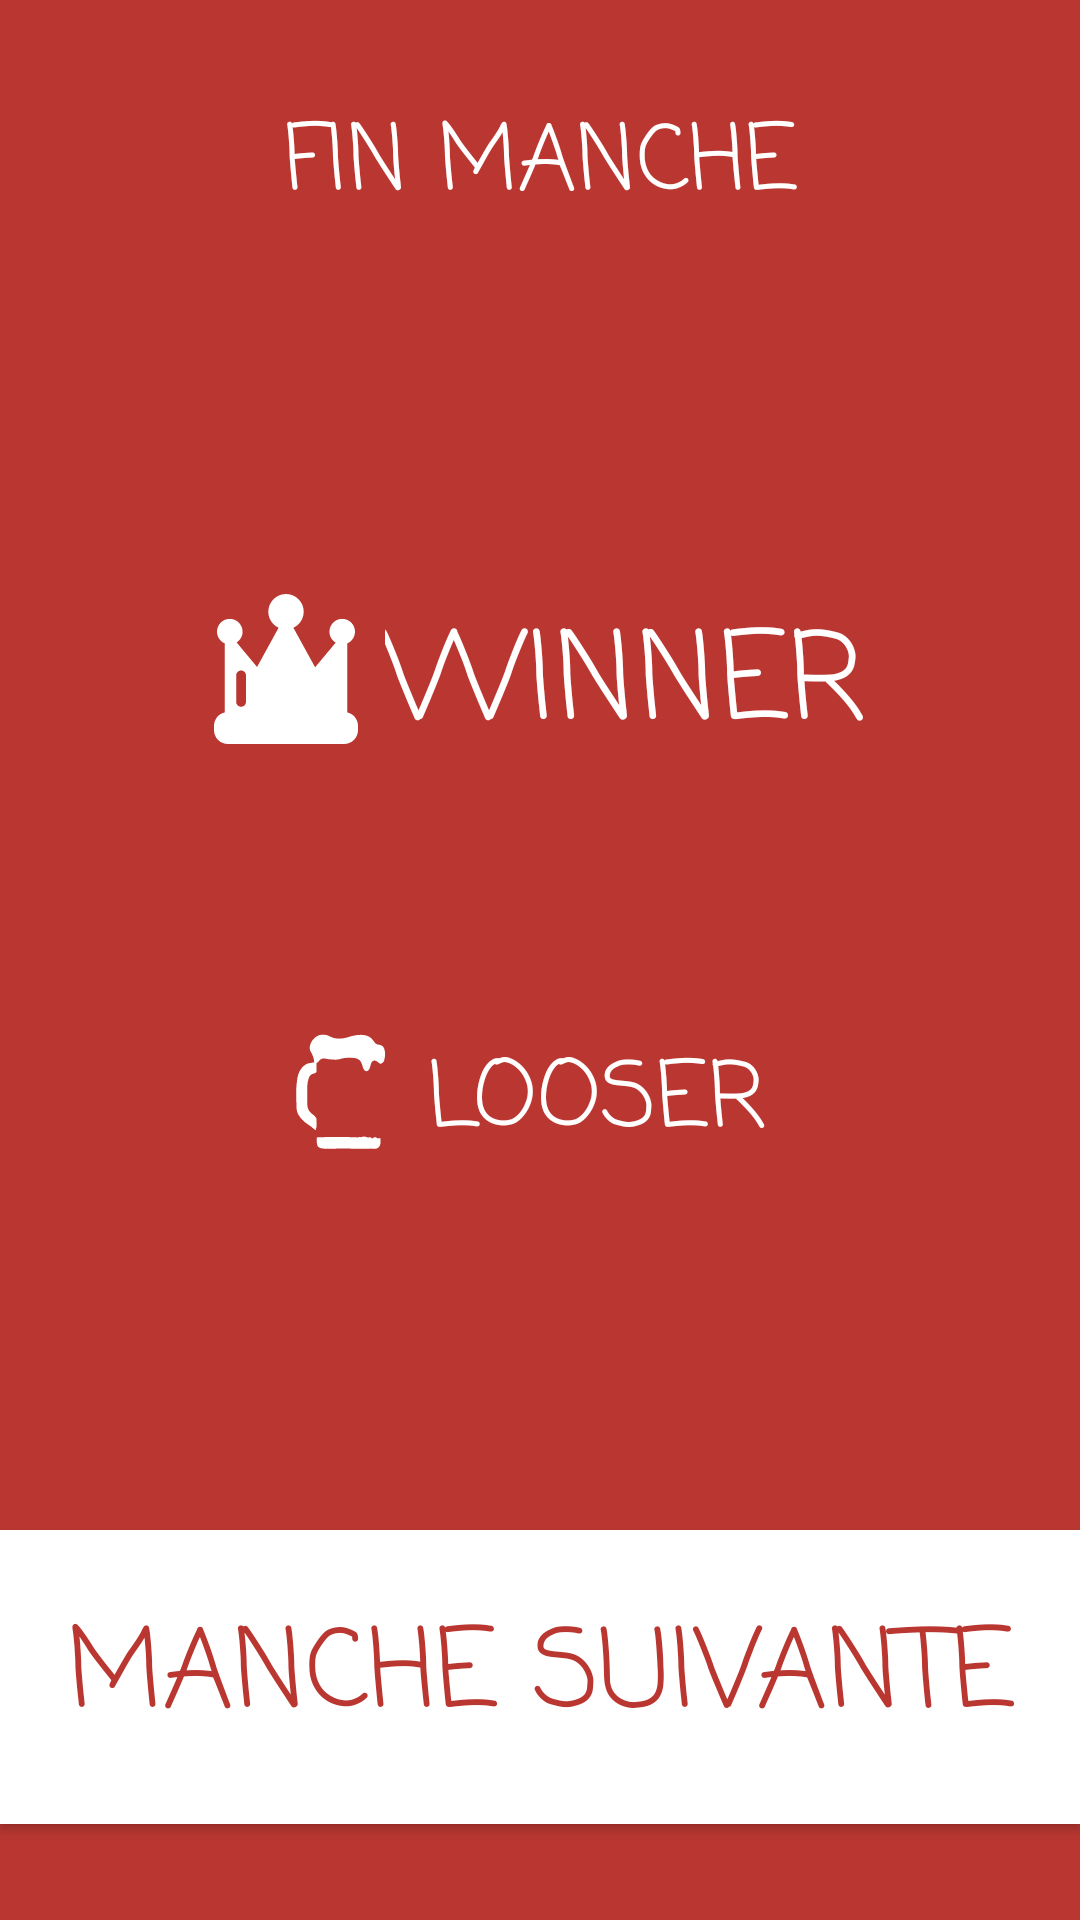

Named icons in this screenshot (1080 × 1920) and their centers, (x,y):
beer: (340,1091)
crown: (286,669)
